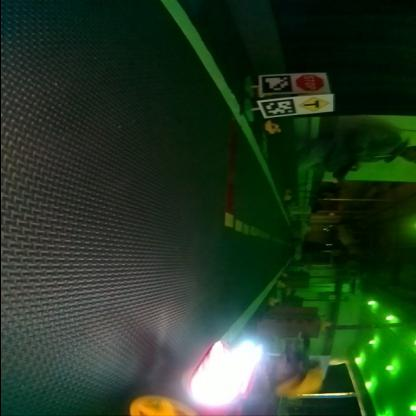Duckie: (264, 121, 278, 130), (268, 296, 278, 306)
Duckiebot: (127, 339, 271, 415)
Intersection sign: (299, 98, 329, 112)
QR code: (260, 97, 296, 114), (261, 74, 292, 92)
Stop sign: (294, 74, 325, 90)
